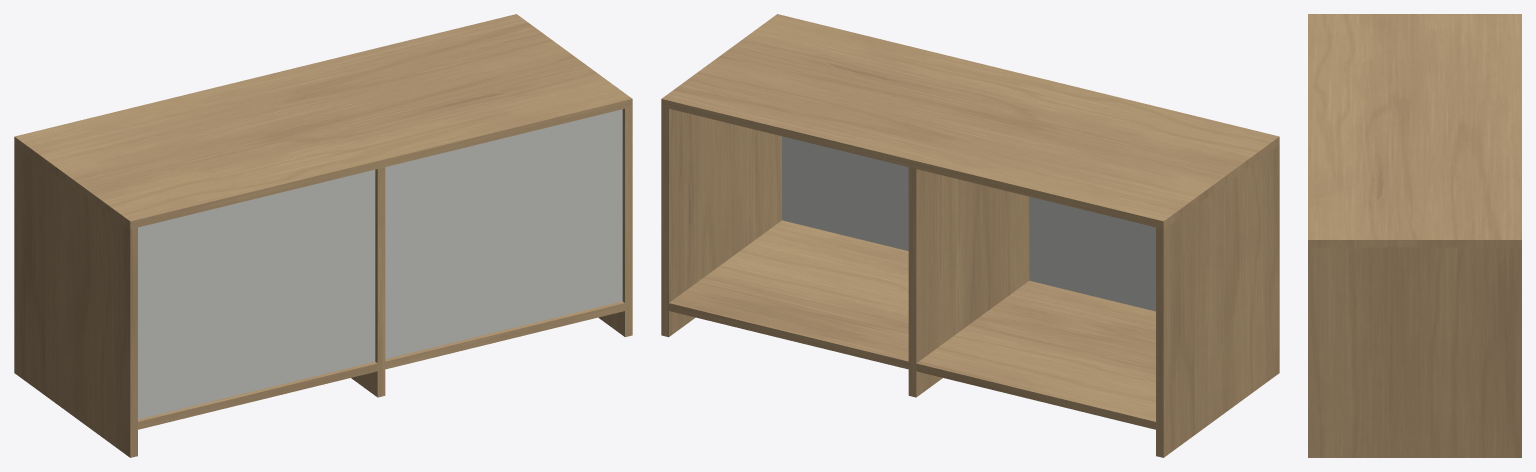
File: BF_want4.glb
3 renders of one model, left to right at view 1: azimuth 30°, elevation 25°; view 2: azimuth 150°, elevation 25°; view 3: azimuth 270°, elevation 25°, orthographic. The views are drawn at different scales.
Parts seen in each view (by area): view 1: BF_want4_model; view 2: BF_want4_model; view 3: BF_want4_model.
Part boxes in pixels (x1=…): BF_want4_model: x1=14, y1=14, x2=632, y2=457; BF_want4_model: x1=661, y1=14, x2=1279, y2=457; BF_want4_model: x1=1308, y1=14, x2=1521, y2=457.
Size of the model in its own units: 10 by 4.5 by 4.
1 material, 1 textured.
